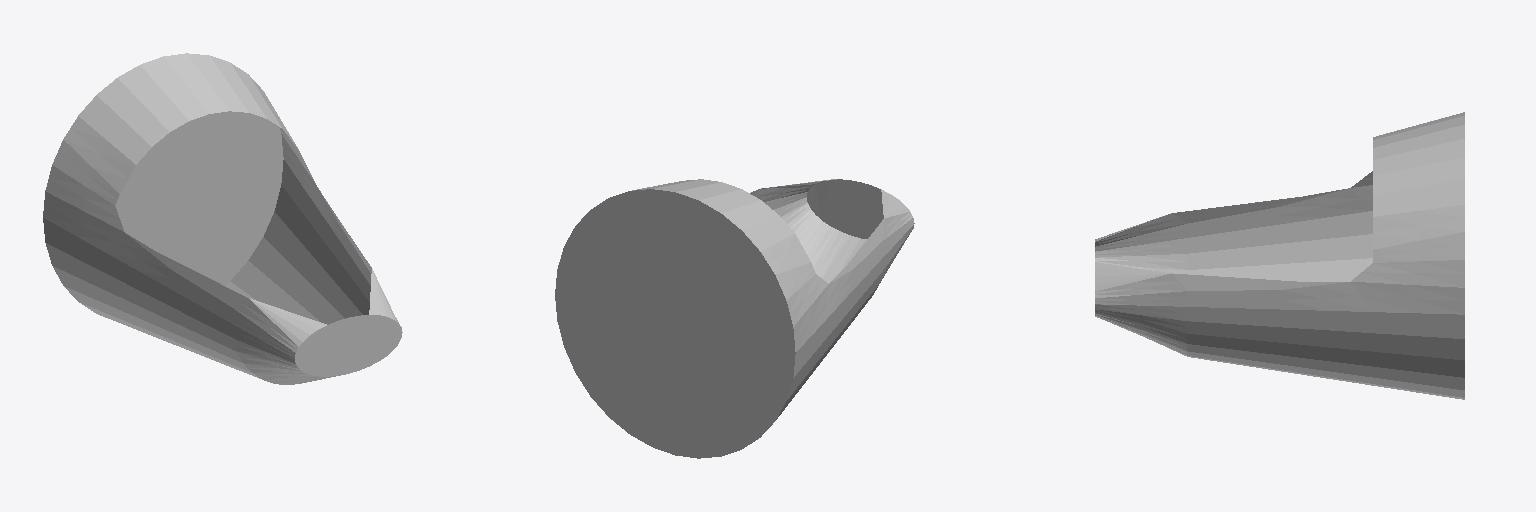
The model's file is cockpitSimpleOne.obj.
The picture shows the model from 3 angles: view 1: azimuth 30°, elevation 25°; view 2: azimuth 150°, elevation 25°; view 3: azimuth 270°, elevation 25°; orthographic projection.
Parts seen in each view (by area): view 1: Cylinder; view 2: Cylinder; view 3: Cylinder.
Part boxes in pixels (x1,y1,x2,y2): Cylinder: (43,53,402,384); Cylinder: (555,179,914,458); Cylinder: (1095,112,1464,399).
Size of the model in its own units: 1.35 by 1.41 by 1.8.